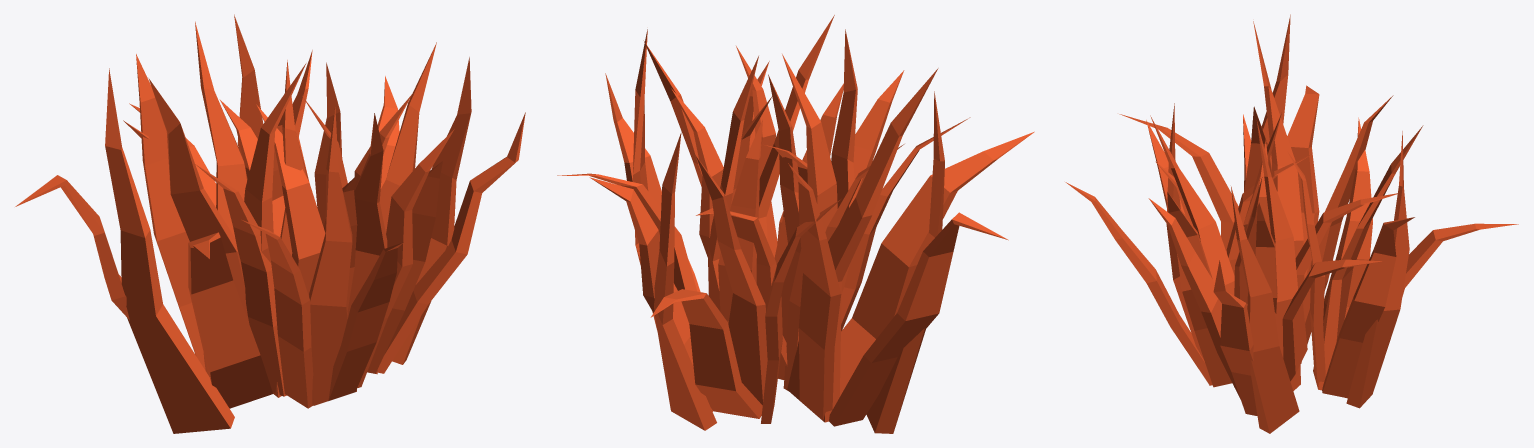
Rendered from grass1.fbx.
3 views of the same model, side by side, from view 1: azimuth 30°, elevation 25°; view 2: azimuth 150°, elevation 25°; view 3: azimuth 270°, elevation 25° (orthographic). The views are drawn at different scales.
Parts seen in each view (by area): view 1: grass; view 2: grass; view 3: grass.
Boxes of the visible parts, left/top/right/bottom form: grass: left=15, top=14, right=525, bottom=433; grass: left=557, top=15, right=1034, bottom=433; grass: left=1065, top=14, right=1518, bottom=433.
Size of the model in its own units: 259 by 200 by 260.
